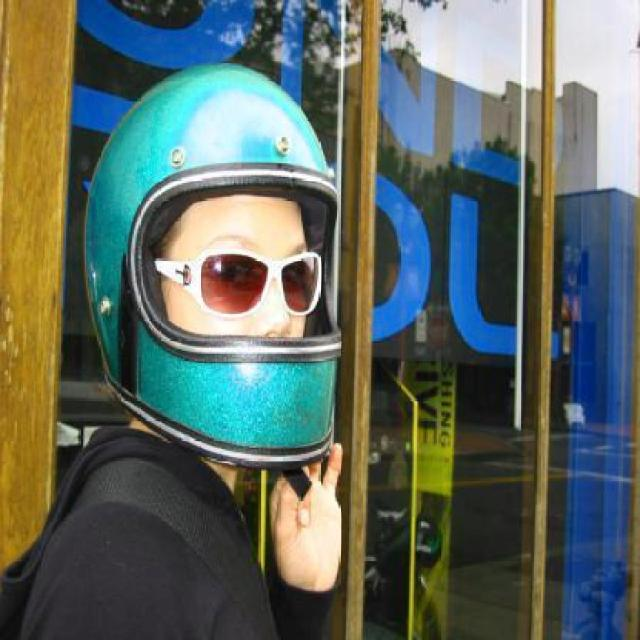glasses: (152, 246, 322, 317)
hand_noglove: (252, 429, 358, 616)
head_helmet: (78, 56, 353, 216)
